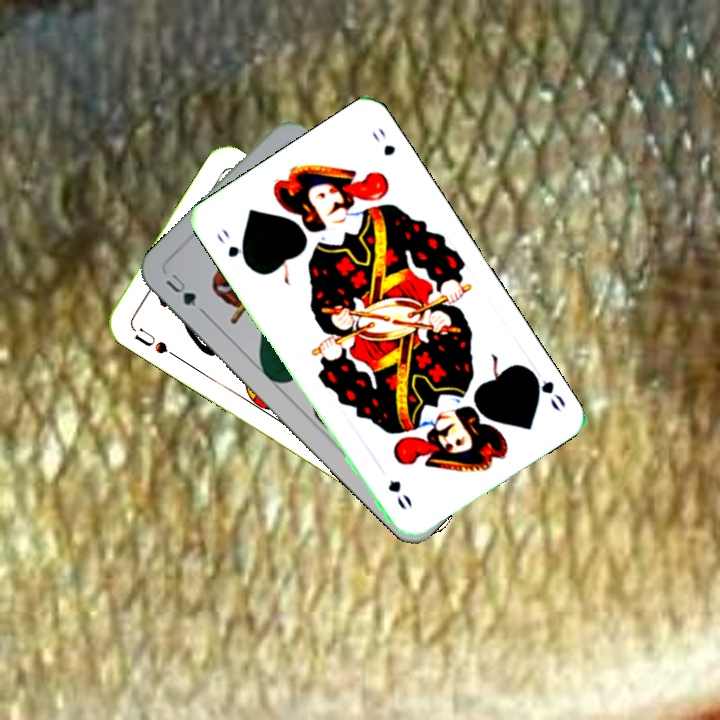GO: (524, 364, 568, 414), (212, 224, 253, 270)
GU: (161, 269, 199, 310)
SU: (127, 322, 180, 361)
